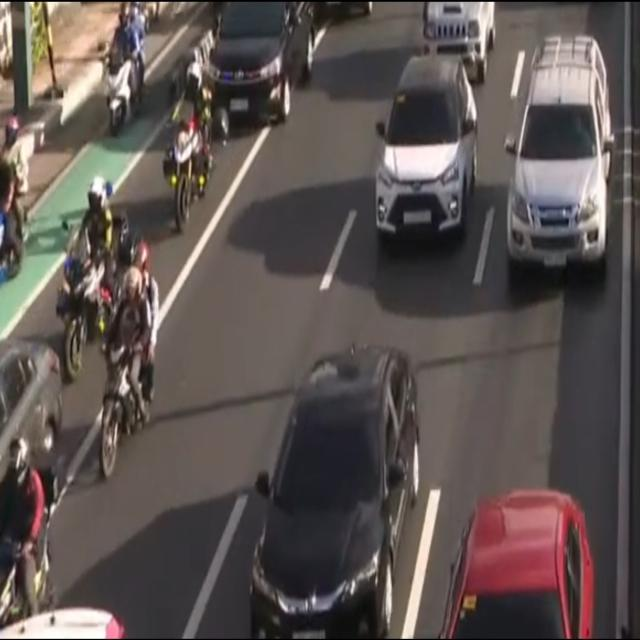Motorcycle: (94, 240, 158, 479), (54, 180, 122, 380), (0, 429, 58, 634), (162, 52, 214, 230), (104, 0, 147, 139), (0, 119, 30, 276)
SUV: (507, 34, 613, 271), (370, 55, 480, 246)
Sedan: (250, 341, 420, 639), (438, 489, 595, 640), (208, 0, 312, 131), (0, 331, 62, 492)
